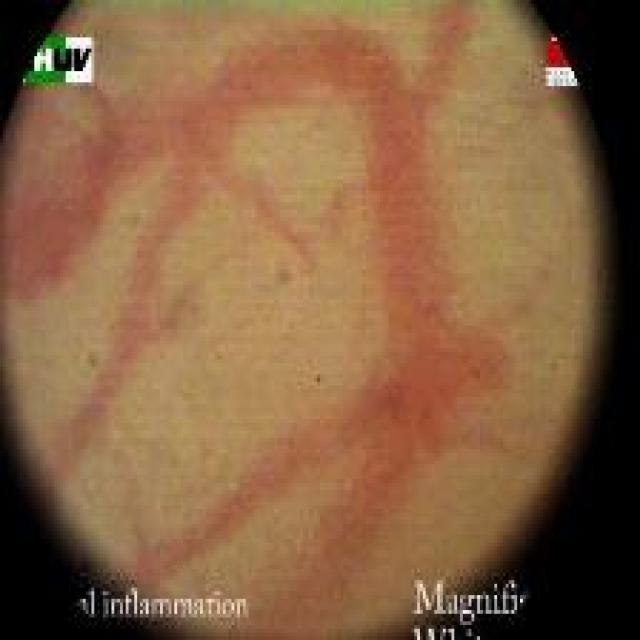color misalignment: (75, 584, 248, 623), (411, 580, 528, 619), (21, 36, 94, 82), (546, 33, 581, 87), (406, 623, 488, 639), (117, 203, 148, 242), (269, 258, 300, 294), (78, 341, 107, 378), (540, 352, 567, 385), (306, 365, 328, 398)
